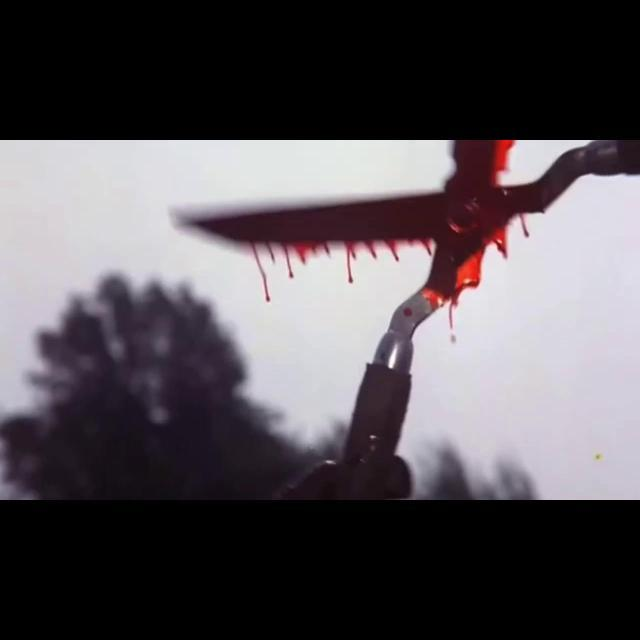blood: (177, 140, 640, 373)
